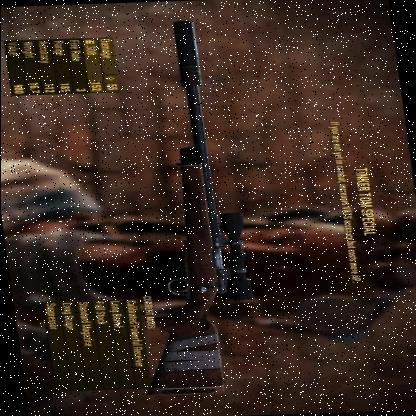rifle: (100, 17, 256, 398)
